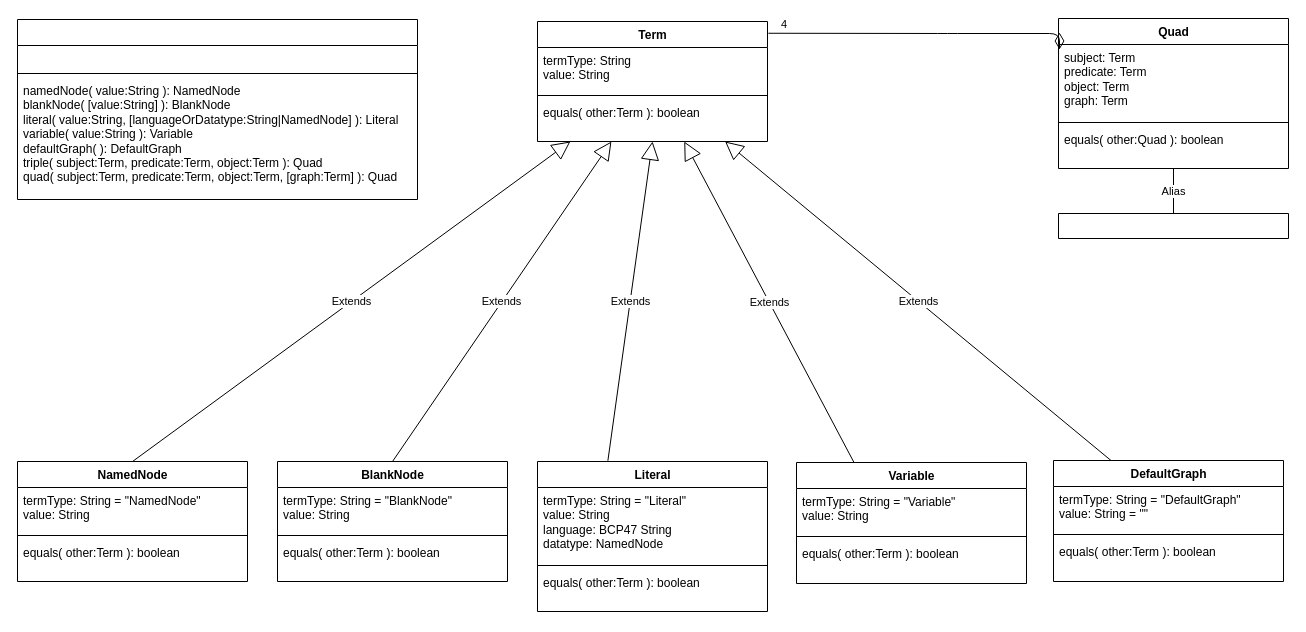
The diagram is 1306 pixels wide and 632 high, and some of its shapes have lost their labels. Each missing label, with the box of its shape:
DataFactory: (16, 18, 418, 200)
Triple: (1058, 212, 1288, 238)
